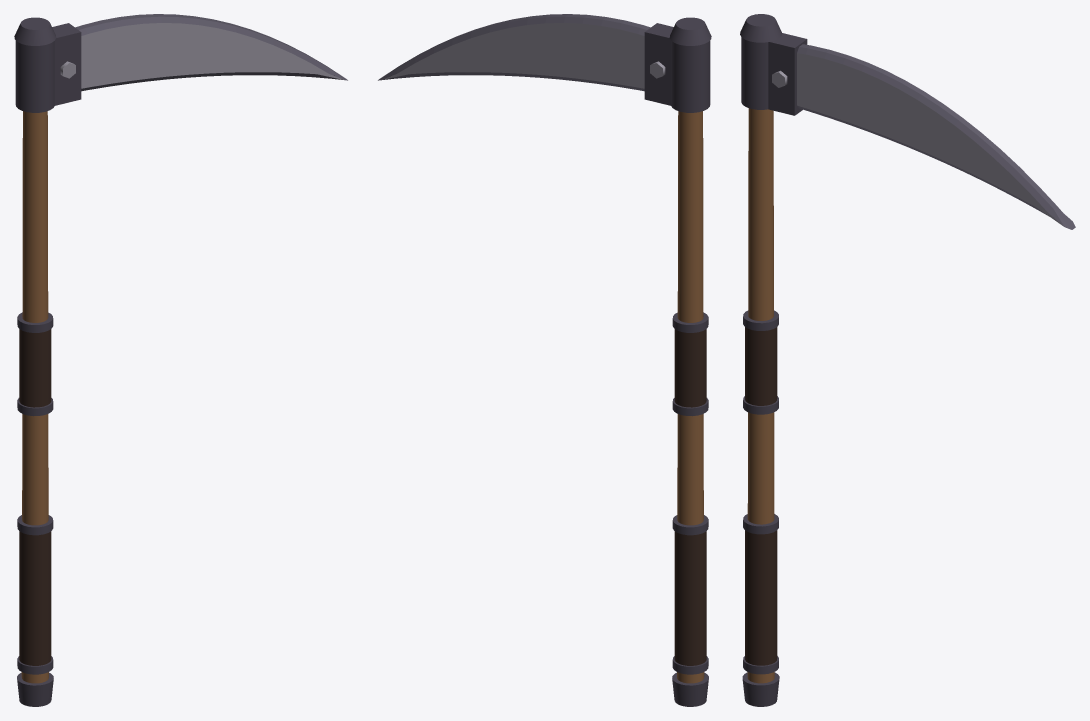
The model's file is Scythe.glb.
The picture shows the model from 3 angles, left to right: view 1: azimuth 30°, elevation 25°; view 2: azimuth 150°, elevation 25°; view 3: azimuth 330°, elevation 25°; orthographic projection.
Parts seen in each view (by area): view 1: blade, shaft, grip, socket, gripMid, collar, cap, pommel; view 2: blade, shaft, grip, socket, gripMid, collar, cap, pommel; view 3: blade, shaft, grip, gripMid, collar, socket, cap, pommel.
Part boxes in pixels (x1=…): blade: x1=75, y1=14, x2=347, y2=91; shaft: x1=21, y1=111, x2=48, y2=683; grip: x1=19, y1=531, x2=51, y2=665; socket: x1=15, y1=40, x2=54, y2=112; gripMid: x1=19, y1=329, x2=51, y2=407; collar: x1=52, y1=23, x2=81, y2=105; cap: x1=14, y1=17, x2=56, y2=45; pommel: x1=17, y1=672, x2=53, y2=706; blade: x1=378, y1=14, x2=650, y2=91; shaft: x1=677, y1=111, x2=704, y2=683; grip: x1=674, y1=531, x2=706, y2=665; socket: x1=671, y1=40, x2=710, y2=112; gripMid: x1=674, y1=329, x2=706, y2=407; collar: x1=644, y1=23, x2=673, y2=105; cap: x1=669, y1=17, x2=711, y2=45; pommel: x1=672, y1=672, x2=708, y2=706; blade: x1=797, y1=44, x2=1075, y2=229; shaft: x1=747, y1=108, x2=774, y2=683; grip: x1=745, y1=530, x2=777, y2=665; gripMid: x1=745, y1=327, x2=777, y2=405; collar: x1=768, y1=33, x2=807, y2=115; socket: x1=741, y1=37, x2=768, y2=109; cap: x1=740, y1=14, x2=781, y2=42; pommel: x1=742, y1=672, x2=779, y2=706.
Bounding box in the file's own units: 3.07 × 6.02 × 0.34.
